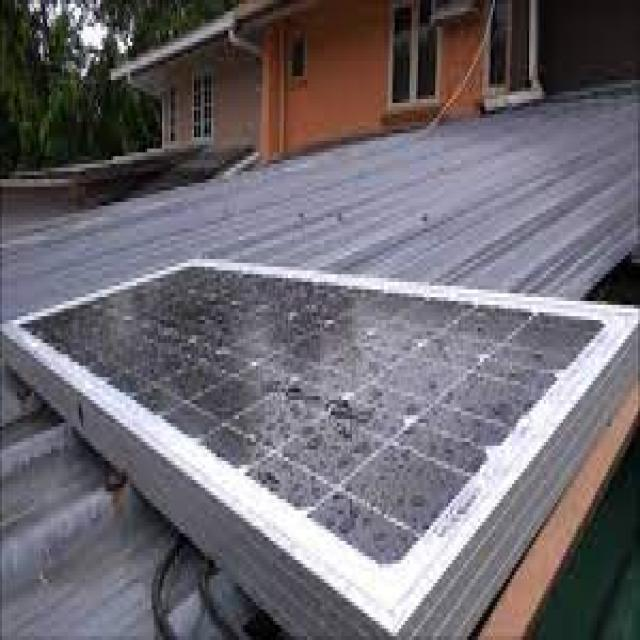faulty: (4, 259, 640, 630)
